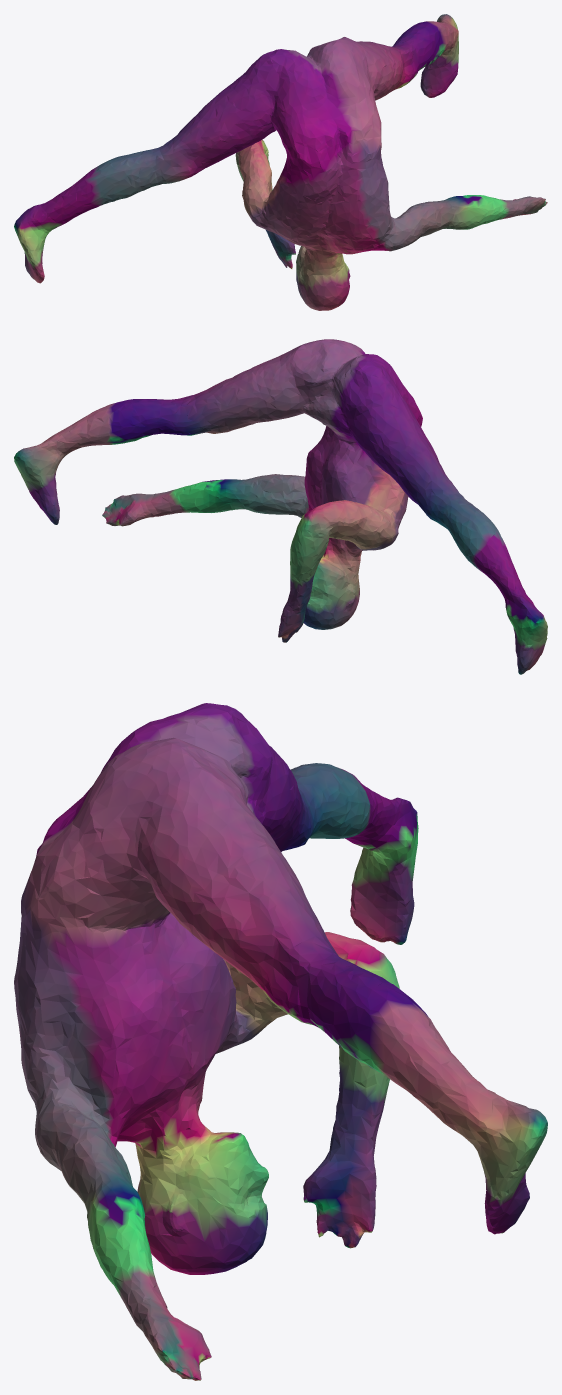
File: man-13.off.obj
The picture shows the model from 3 angles, top to bottom: view 1: azimuth 30°, elevation 25°; view 2: azimuth 150°, elevation 25°; view 3: azimuth 270°, elevation 25°; orthographic projection. The views are drawn at different scales.
Bounding box in the file's own units: 1.58 × 0.8524 × 0.7751.
